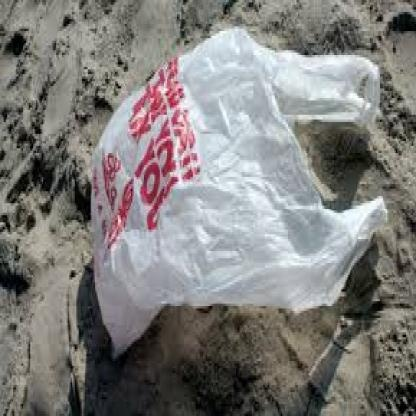trash: (92, 28, 383, 355)
